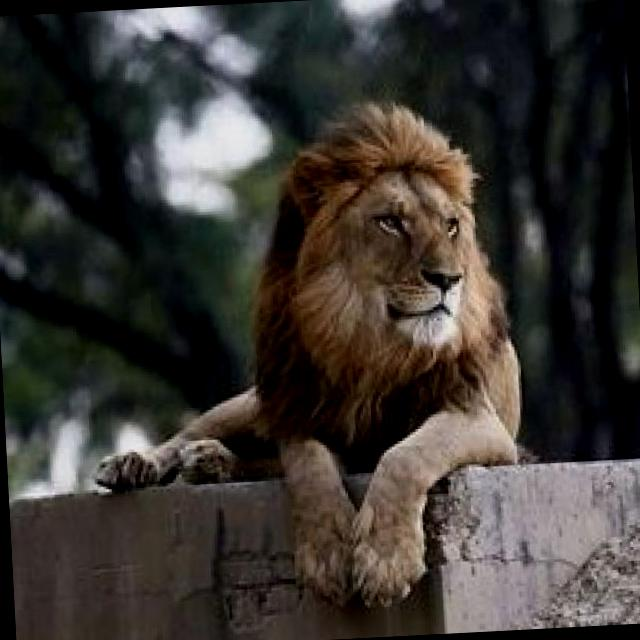lions: (151, 80, 640, 640)
